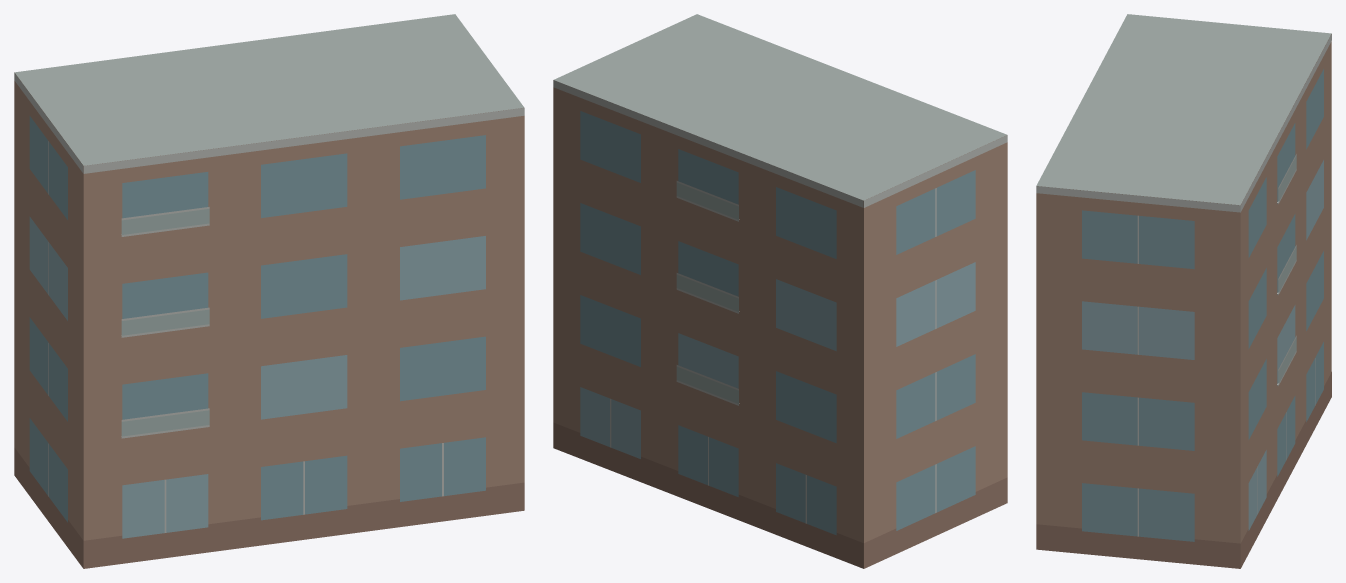
File: residential-ccba3df2-15bd-4455-ac0e-a6c69794f9e0.glb
3 renders of one model, left to right at view 1: azimuth 30°, elevation 25°; view 2: azimuth 150°, elevation 25°; view 3: azimuth 270°, elevation 25°, orthographic. The views are drawn at different scales.
Visible parts, largest first — view 1: residential-ccba3df2-15bd-4455-ac0e-a6c69794f9e0.tmp; view 2: residential-ccba3df2-15bd-4455-ac0e-a6c69794f9e0.tmp; view 3: residential-ccba3df2-15bd-4455-ac0e-a6c69794f9e0.tmp.
Boxes of the visible parts, left/top/right/bottom form: residential-ccba3df2-15bd-4455-ac0e-a6c69794f9e0.tmp: left=14, top=14, right=524, bottom=568; residential-ccba3df2-15bd-4455-ac0e-a6c69794f9e0.tmp: left=553, top=14, right=1007, bottom=568; residential-ccba3df2-15bd-4455-ac0e-a6c69794f9e0.tmp: left=1036, top=14, right=1331, bottom=568.
Size of the model in its own units: 13.77 by 12.2 by 9.
